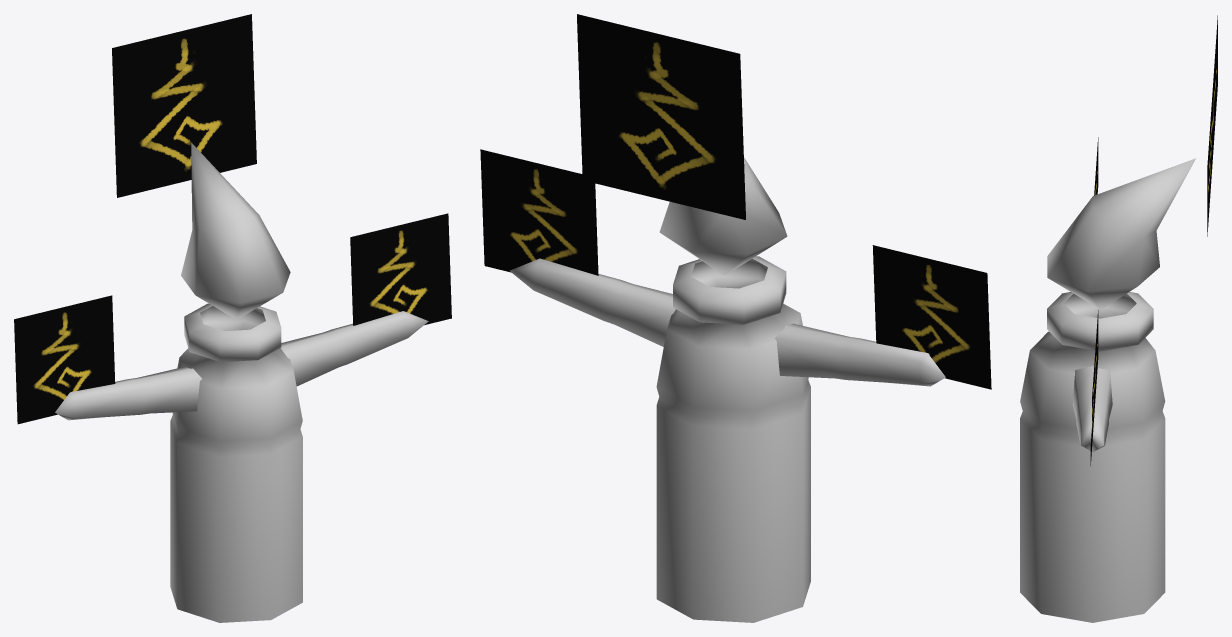
Rendered from Hechicero.fbx.
3 renders of one model, left to right at view 1: azimuth 30°, elevation 25°; view 2: azimuth 150°, elevation 25°; view 3: azimuth 270°, elevation 25°, orthographic. The views are drawn at different scales.
Parts seen in each view (by area): view 1: Cylinder002, Plane003, Object001, Plane004, Plane005; view 2: Cylinder002, Plane003, Plane004, Plane005, Object001; view 3: Cylinder002, Object001, Plane003, Plane005.
Part boxes in pixels (left/top/right/bottom): Cylinder002: left=55, top=303, right=428, bottom=622; Plane003: left=112, top=14, right=256, bottom=197; Object001: left=181, top=143, right=290, bottom=319; Plane004: left=14, top=295, right=115, bottom=424; Plane005: left=350, top=213, right=451, bottom=325; Cylinder002: left=509, top=256, right=945, bottom=622; Plane003: left=577, top=14, right=745, bottom=219; Plane004: left=872, top=245, right=991, bottom=389; Plane005: left=480, top=149, right=598, bottom=275; Object001: left=659, top=157, right=787, bottom=275; Cylinder002: left=1020, top=292, right=1165, bottom=622; Object001: left=1047, top=158, right=1195, bottom=309; Plane003: left=1207, top=15, right=1217, bottom=236; Plane005: left=1090, top=310, right=1098, bottom=465.
Bounding box in the file's own units: 23432 × 26749 × 8797.
